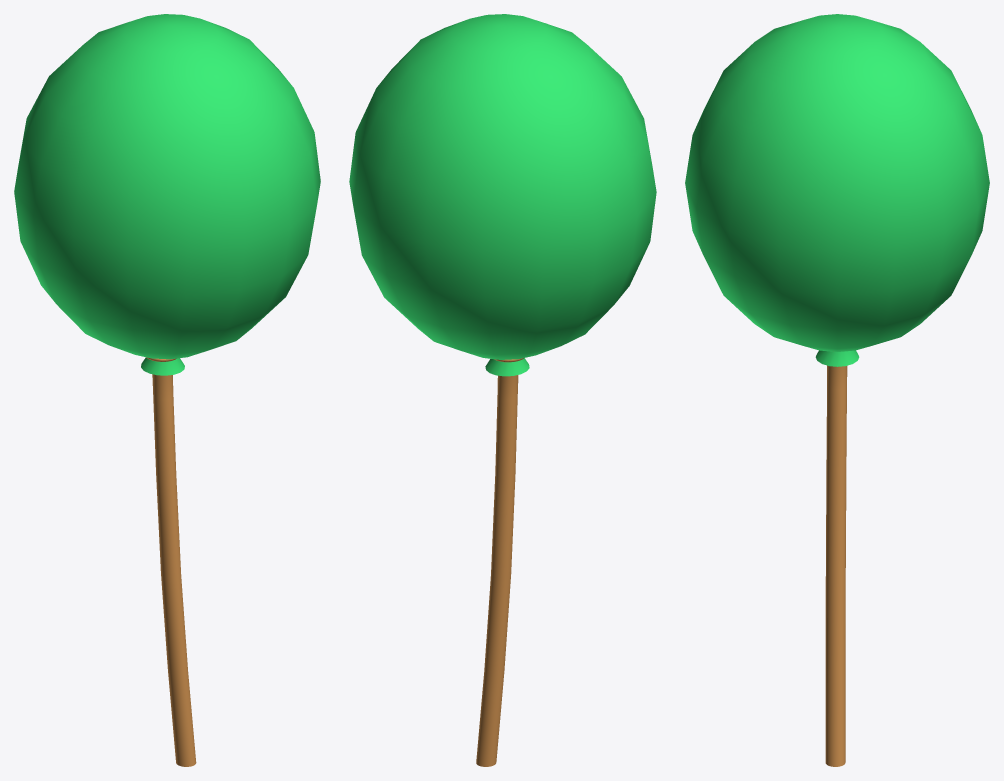
Rendered from sharik.fbx.
3 renders of one model, left to right at view 1: azimuth 30°, elevation 25°; view 2: azimuth 150°, elevation 25°; view 3: azimuth 270°, elevation 25°, orthographic.
Parts seen in each view (by area): view 1: Sphere.002, Vert.004; view 2: Sphere.002, Vert.004; view 3: Sphere.002, Vert.004.
Boxes of the visible parts, x1,y1,x2,y2 form: Sphere.002: [14, 14, 320, 375]; Vert.004: [146, 357, 196, 766]; Sphere.002: [349, 14, 656, 376]; Vert.004: [476, 358, 523, 766]; Sphere.002: [685, 14, 989, 366]; Vert.004: [825, 365, 847, 766].
Bounding box in the file's own units: 200 × 527 × 200.
